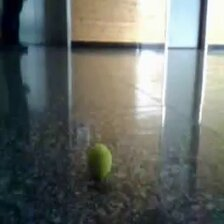tennis: (87, 145, 113, 180)
